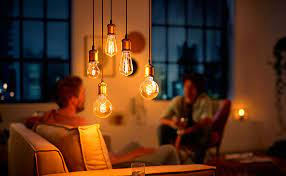bulb: (90, 86, 117, 123), (138, 71, 163, 102), (81, 51, 104, 80), (101, 28, 118, 62), (118, 44, 134, 79)
